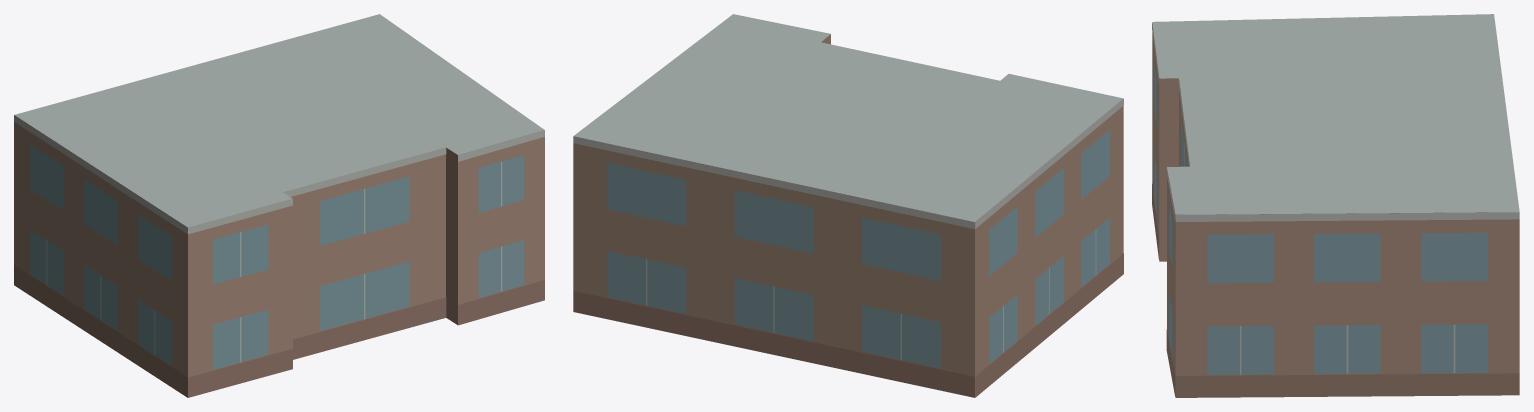
File: survey-upis-32816412.glb
3 renders of one model, left to right at view 1: azimuth 30°, elevation 25°; view 2: azimuth 150°, elevation 25°; view 3: azimuth 270°, elevation 25°, orthographic. The views are drawn at different scales.
Visible parts, largest first — view 1: survey-upis-32816412.tmp; view 2: survey-upis-32816412.tmp; view 3: survey-upis-32816412.tmp.
Boxes of the visible parts, <box> form: survey-upis-32816412.tmp: <box>14,14,544,397</box>; survey-upis-32816412.tmp: <box>573,14,1123,397</box>; survey-upis-32816412.tmp: <box>1152,14,1519,397</box>.
Bounding box in the file's own units: 14.35 × 6.1 × 11.11.
